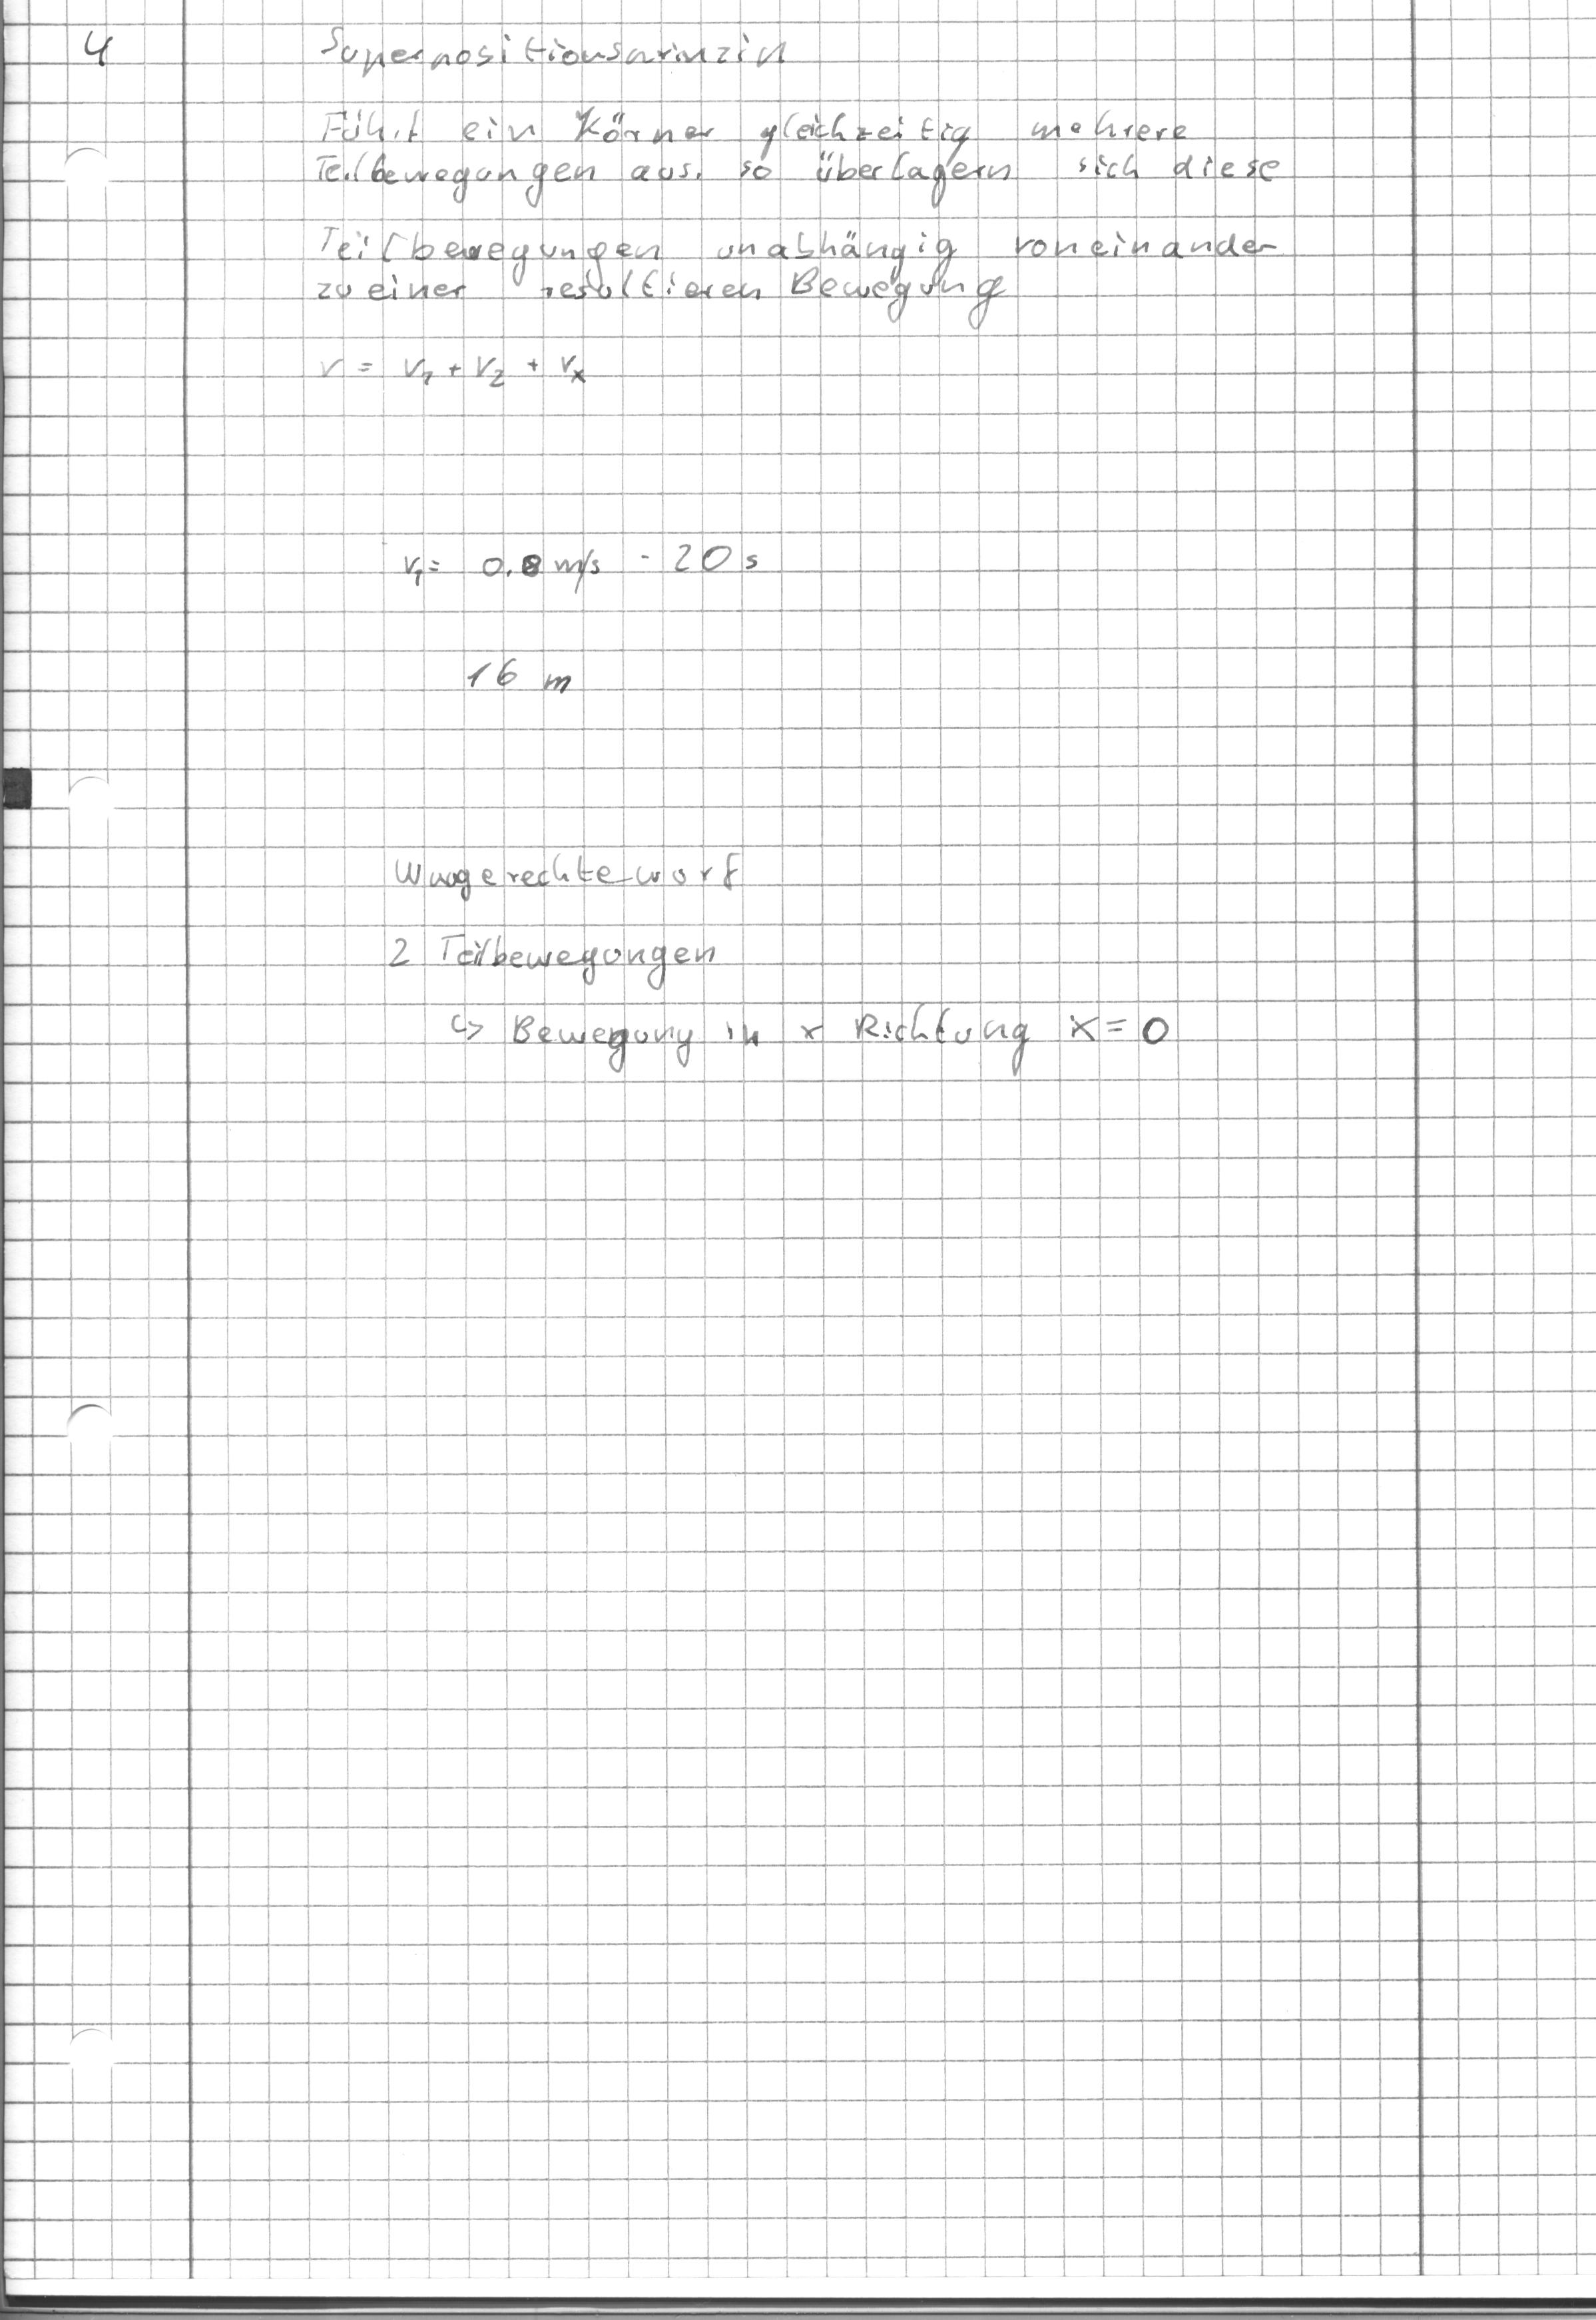word: (308, 208, 1286, 340), (308, 97, 1301, 215), (445, 994, 1171, 1093), (371, 842, 748, 998), (309, 11, 806, 87), (388, 523, 772, 598), (307, 335, 600, 408), (453, 645, 591, 713)
